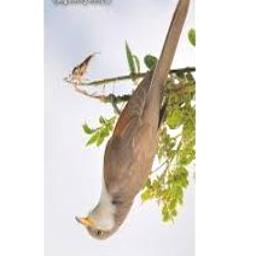Cuckoo: (76, 0, 191, 241)
